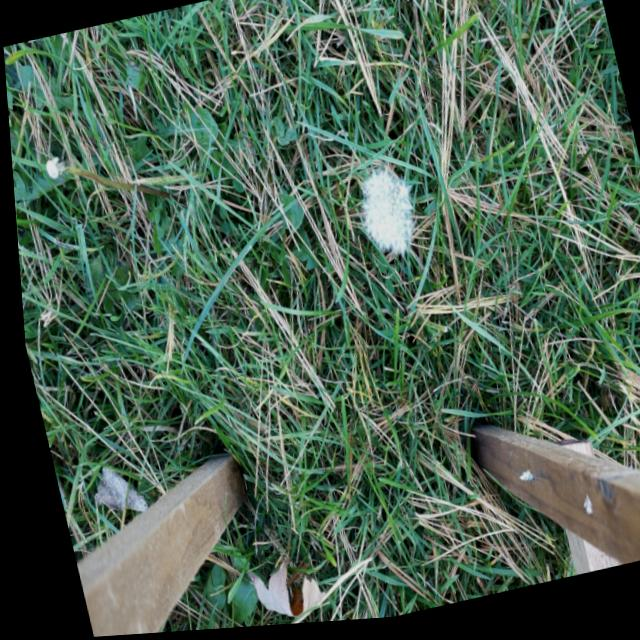base: (165, 186, 187, 221), (322, 206, 342, 235)
